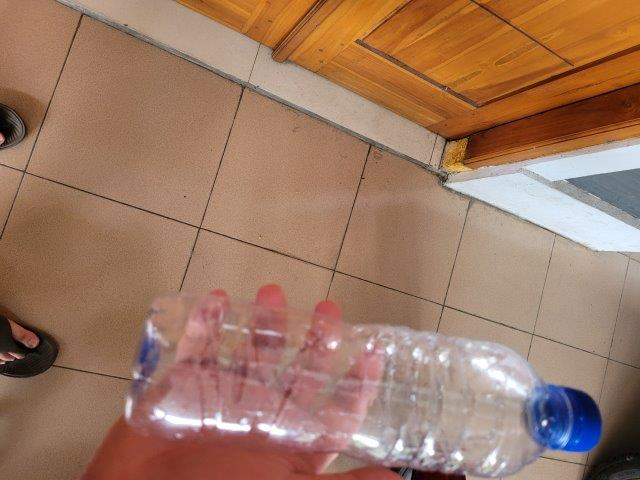botolplastik: (126, 295, 605, 471)
